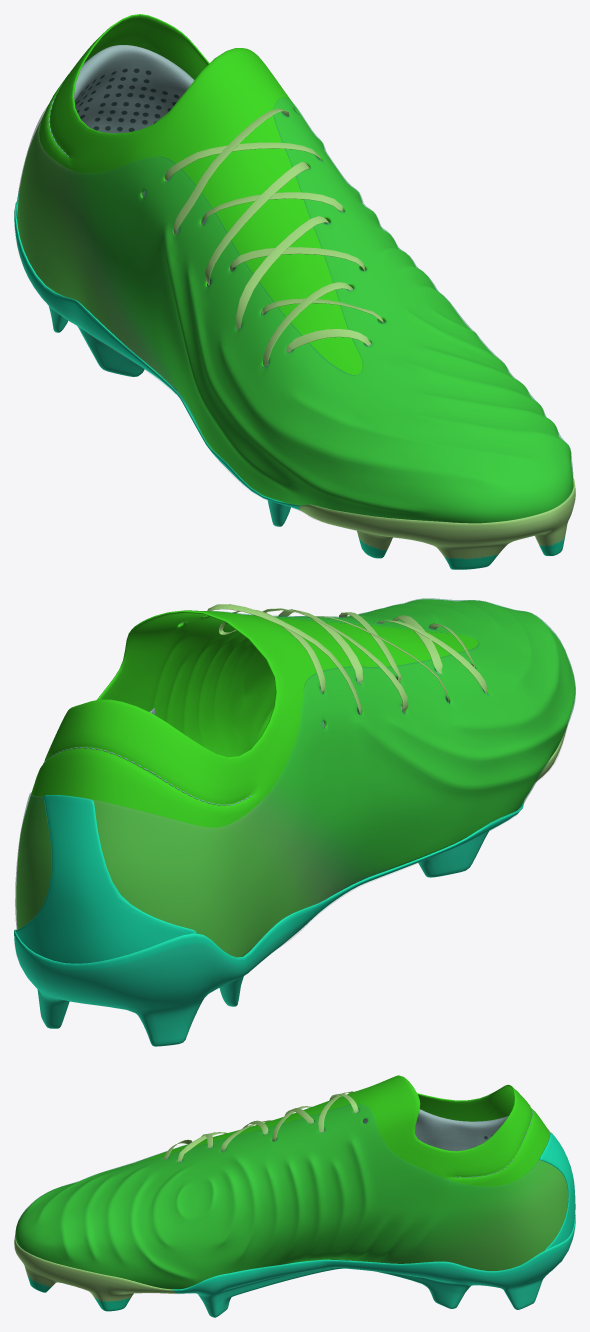
File: cleat-green.glb
3 views of the same model, one above another, from view 1: azimuth 30°, elevation 25°; view 2: azimuth 150°, elevation 25°; view 3: azimuth 270°, elevation 25° (orthographic). The views are drawn at different scales.
Parts seen in each view (by area): view 1: Sko real_0, Trans_2, Dobbar_5, object 7, Insida_3; view 2: Sko real_0, Trans_2, Dobbar_5, back patch_1, object 7; view 3: Sko real_0, Trans_2, Dobbar_5, Insida_3, object 7, back patch_1.
Boxes of the visible parts, <box> form: Sko real_0: <box>17,14,572,523</box>; Trans_2: <box>17,97,573,522</box>; Dobbar_5: <box>14,201,575,569</box>; object 7: <box>164,108,383,366</box>; Insida_3: <box>74,45,323,267</box>; Sko real_0: <box>16,599,575,957</box>; Trans_2: <box>15,598,575,956</box>; Dobbar_5: <box>14,724,567,1046</box>; back patch_1: <box>16,795,196,963</box>; object 7: <box>204,604,487,715</box>; Sko real_0: <box>15,1075,568,1289</box>; Trans_2: <box>15,1104,567,1288</box>; Dobbar_5: <box>14,1215,575,1317</box>; Insida_3: <box>363,1109,508,1151</box>; object 7: <box>163,1091,358,1162</box>; back patch_1: <box>539,1132,575,1250</box>.
Size of the model in its own units: 1.91 by 2.37 by 5.6.
9 materials, 9 textured.
